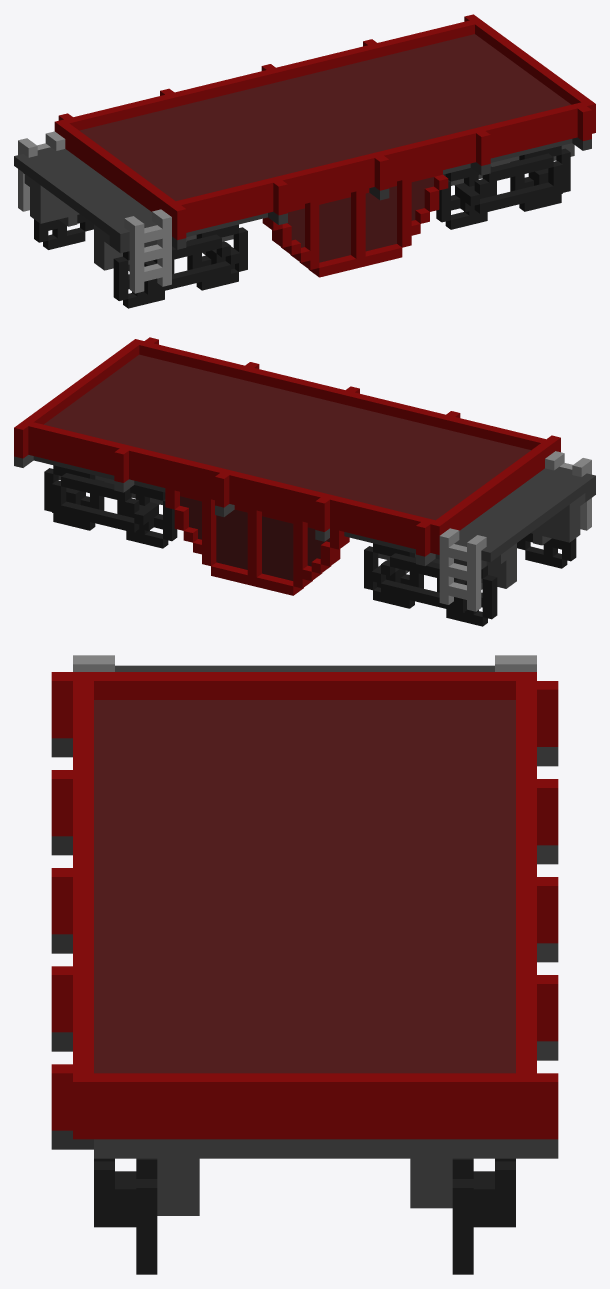
The model's file is Carriage.obj.
3 renders of one model, top to bottom at view 1: azimuth 30°, elevation 25°; view 2: azimuth 150°, elevation 25°; view 3: azimuth 270°, elevation 25°, orthographic. The views are drawn at different scales.
Bounding box in the file's own units: 51 × 11 × 24.
1 material, 1 textured.
